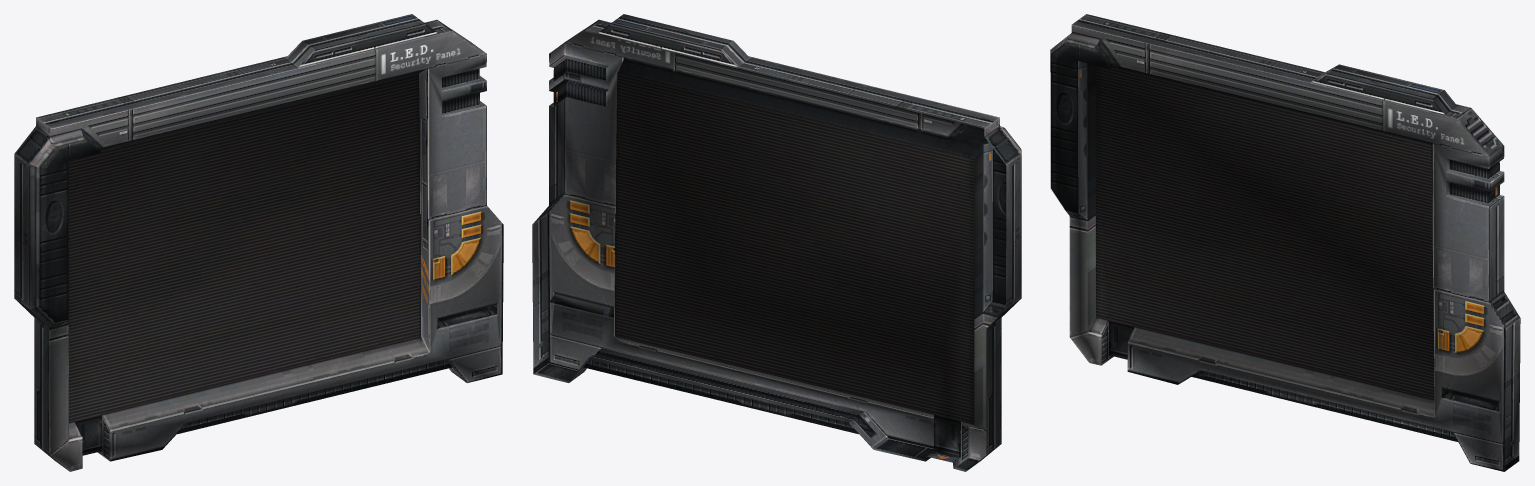
Rendered from security_pad.glb.
The picture shows the model from 3 angles, left to right: view 1: azimuth 30°, elevation 25°; view 2: azimuth 150°, elevation 25°; view 3: azimuth 330°, elevation 25°; orthographic projection. The views are drawn at different scales.
Parts seen in each view (by area): view 1: Box01; view 2: Box01; view 3: Box01.
Boxes of the visible parts, box(x1,y1,x2,y2) form: Box01: box(14, 14, 503, 471); Box01: box(532, 14, 1021, 471); Box01: box(1050, 14, 1520, 471).
Bounding box in the file's own units: 21.08 × 15.67 × 1.57.
Materials: 1 (1 with a texture image).
